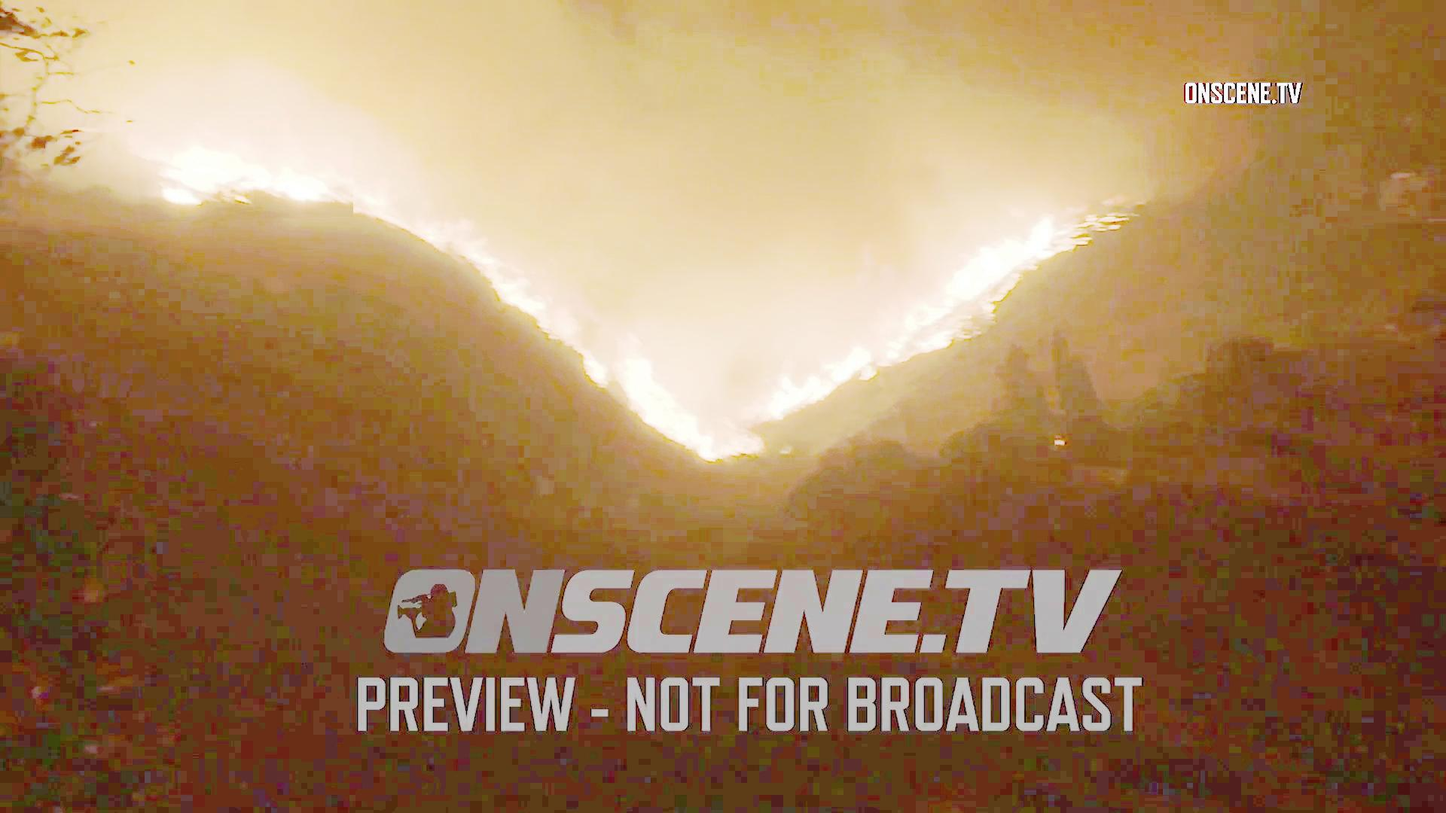smoke: (134, 138, 353, 225)
